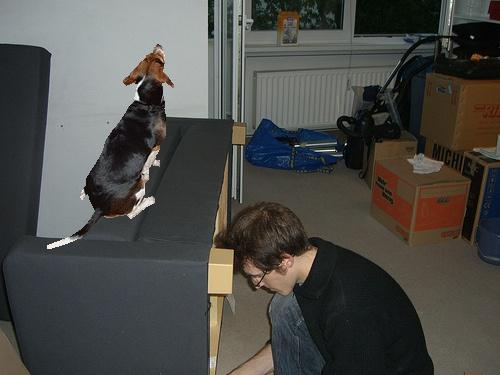tampered: (47, 45, 174, 249)
